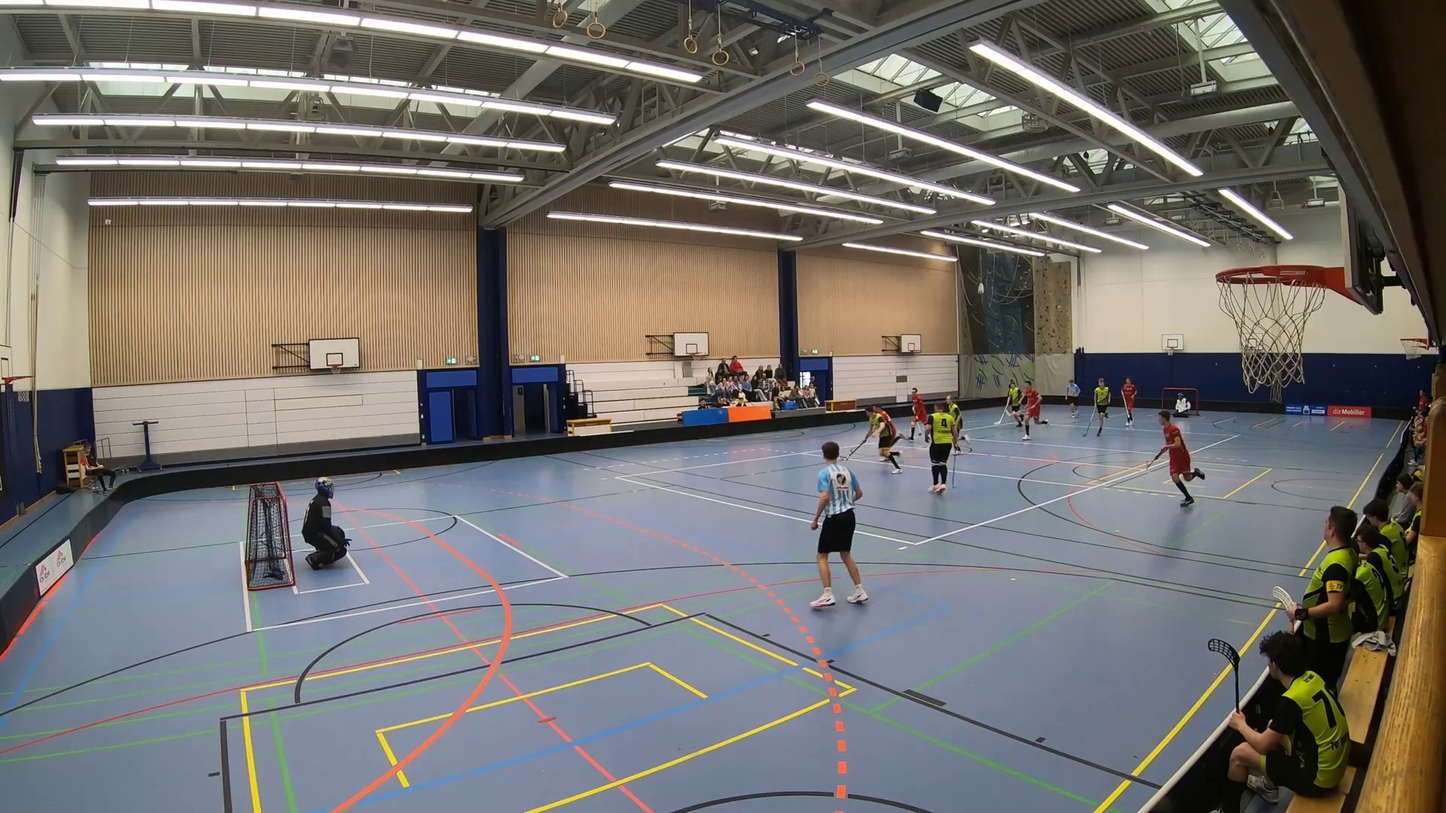Schiri: (776, 427, 887, 623), (1055, 374, 1084, 421)
goalkeeper: (274, 461, 362, 588), (1165, 389, 1194, 419)
player: (1145, 405, 1214, 508), (839, 407, 909, 476), (925, 400, 969, 497), (1003, 374, 1051, 444), (1083, 372, 1114, 441), (943, 391, 973, 456), (902, 384, 929, 444), (989, 379, 1021, 427), (1119, 375, 1140, 429), (873, 402, 896, 442)
